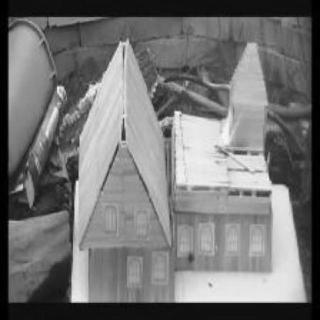Fire: (215, 110, 242, 148)
